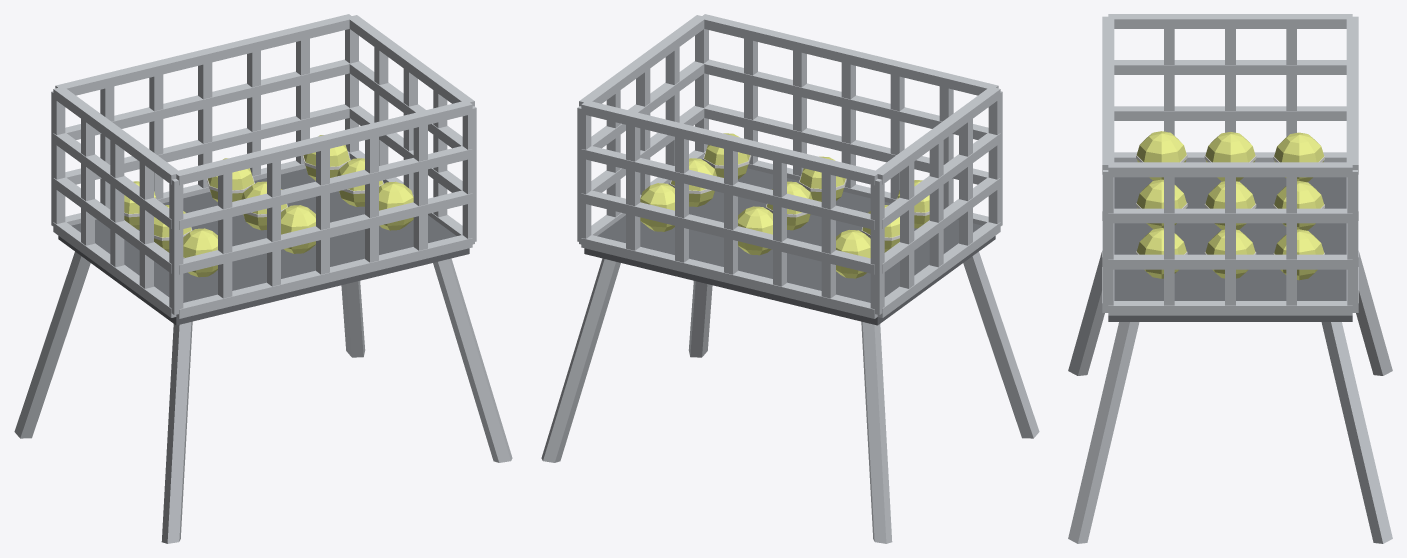
The model's file is tennis-club-and-courts-ball-basket-44558d1f__33620.glb.
3 renders of one model, left to right at view 1: azimuth 30°, elevation 25°; view 2: azimuth 150°, elevation 25°; view 3: azimuth 270°, elevation 25°, orthographic. The views are drawn at different scales.
Visible parts, largest first — view 1: ball-basket; view 2: ball-basket; view 3: ball-basket.
Boxes of the visible parts, <box> form: ball-basket: <box>14,14,512,543</box>; ball-basket: <box>541,14,1039,543</box>; ball-basket: <box>1068,14,1392,543</box>.
Bounding box in the file's own units: 0.5453 × 0.5299 × 0.4254.
